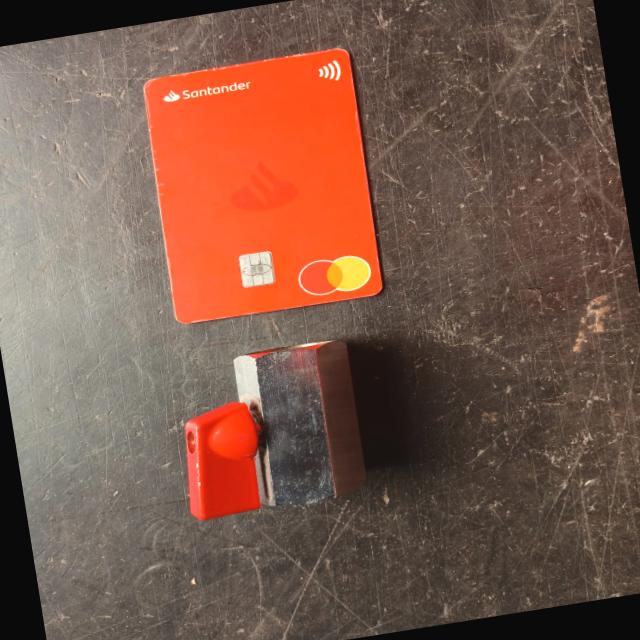cartao: (140, 47, 384, 326)
rosca_interna: (168, 336, 373, 524)
